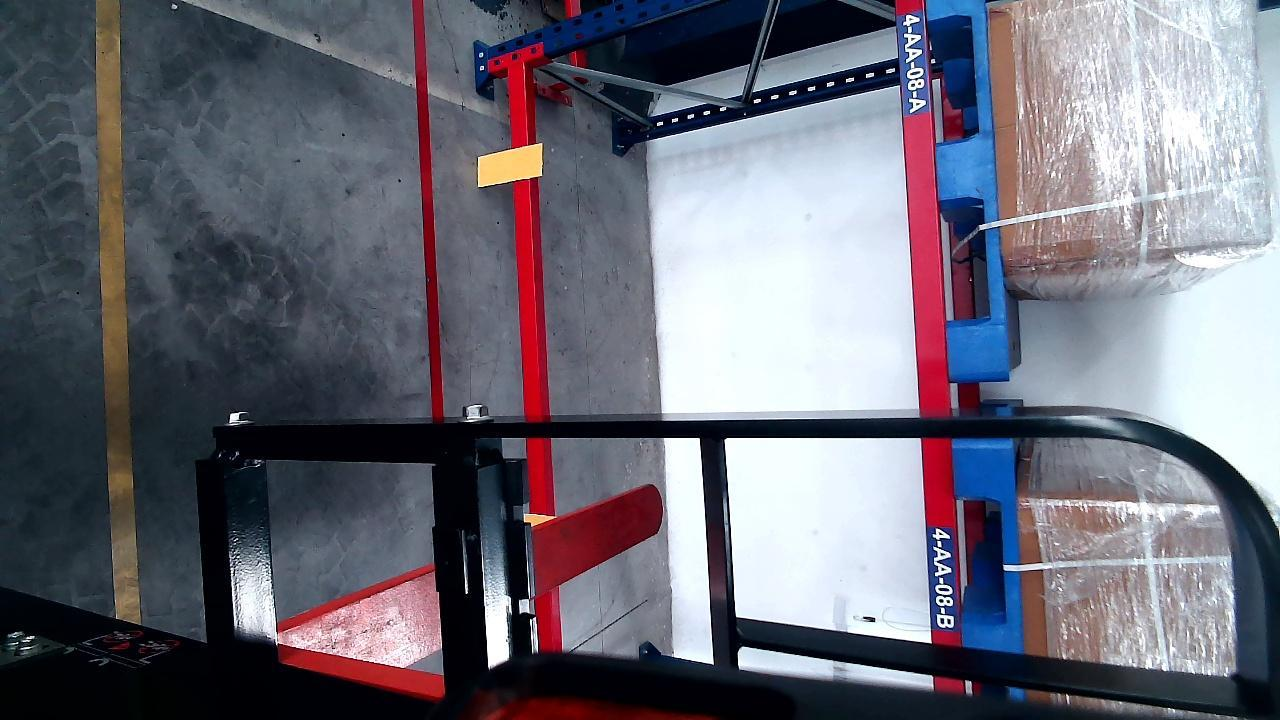red_line: (414, 0, 446, 423)
yellow_line: (95, 0, 140, 630)
